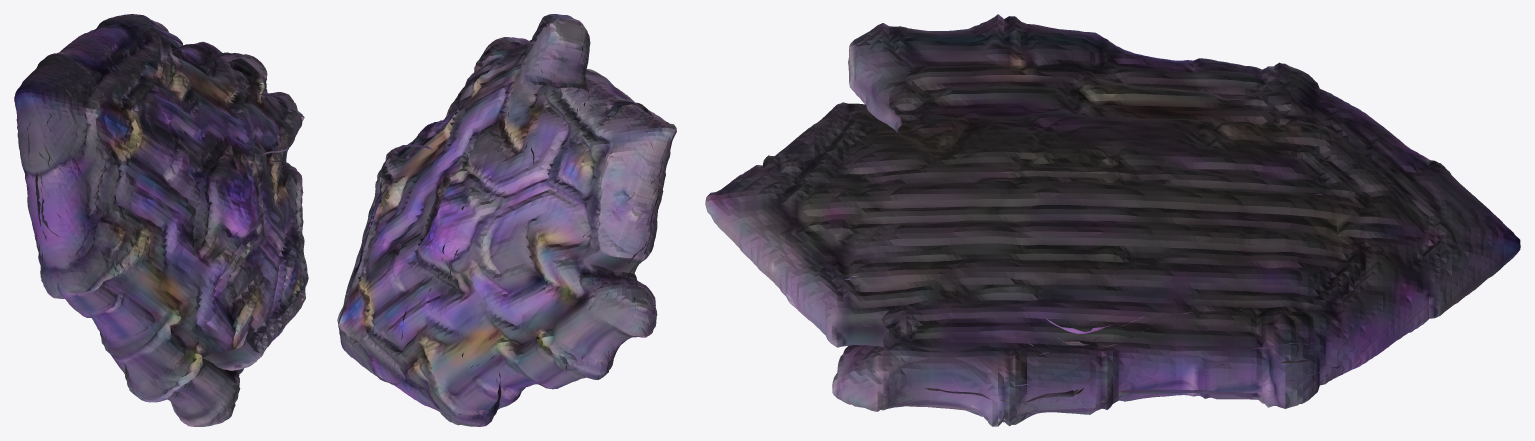
3 renders of one model, left to right at view 1: azimuth 30°, elevation 25°; view 2: azimuth 150°, elevation 25°; view 3: azimuth 270°, elevation 25°, orthographic. The views are drawn at different scales.
Visible parts, largest first — view 1: world; view 2: world; view 3: world.
Boxes of the visible parts, bbox=[...] form: world: bbox=[14, 14, 308, 426]; world: bbox=[337, 14, 676, 426]; world: bbox=[705, 14, 1520, 426].
Bounding box in the file's own units: 0.2864 × 0.59 × 0.9684.
